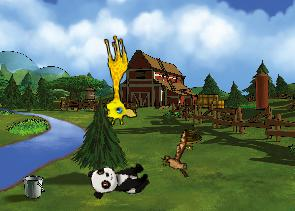eagle: (153, 128, 202, 184)
giraffe: (92, 33, 138, 127)
panda: (87, 159, 151, 200)
